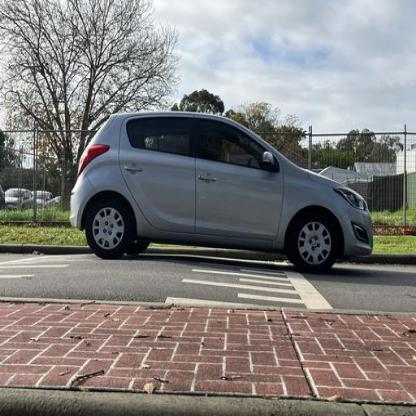Tire: (288, 210, 339, 274), (85, 196, 132, 260)
